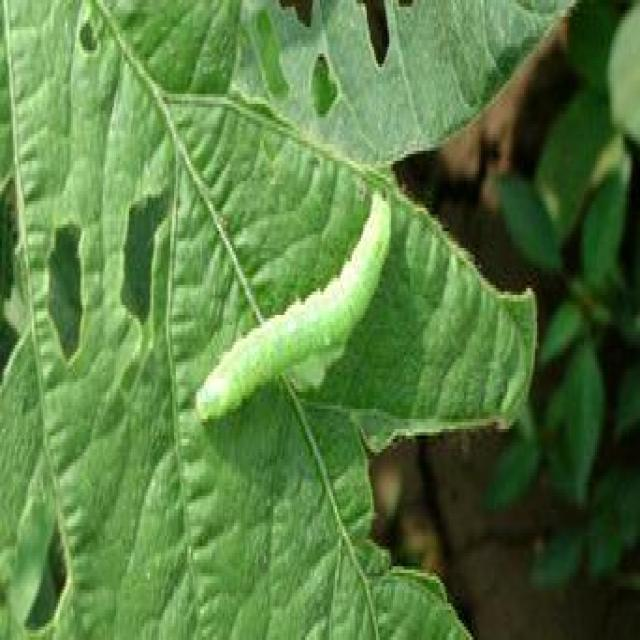BeetArmyWorm-Larva-: (193, 183, 395, 435)
